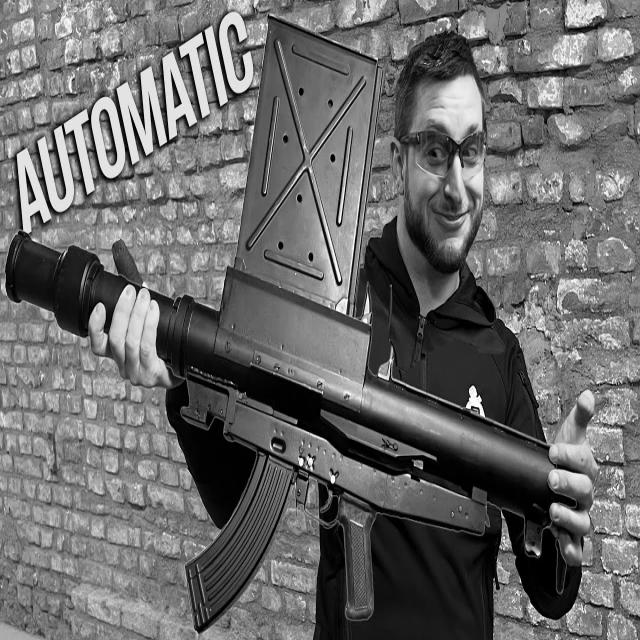Lancher: (21, 34, 490, 530)
